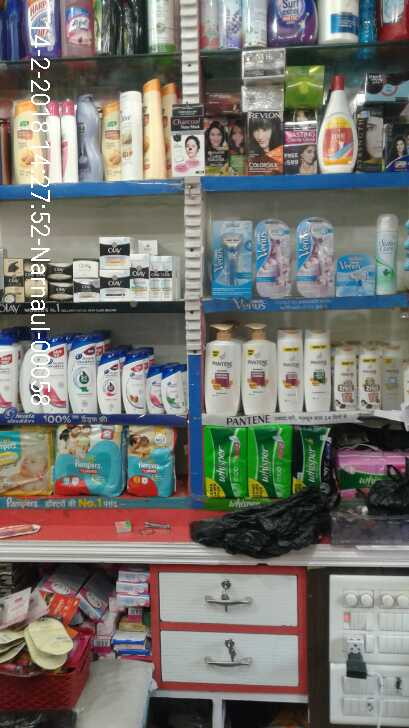venus: (210, 219, 252, 296), (298, 217, 337, 294), (256, 217, 291, 296), (337, 253, 375, 294)
